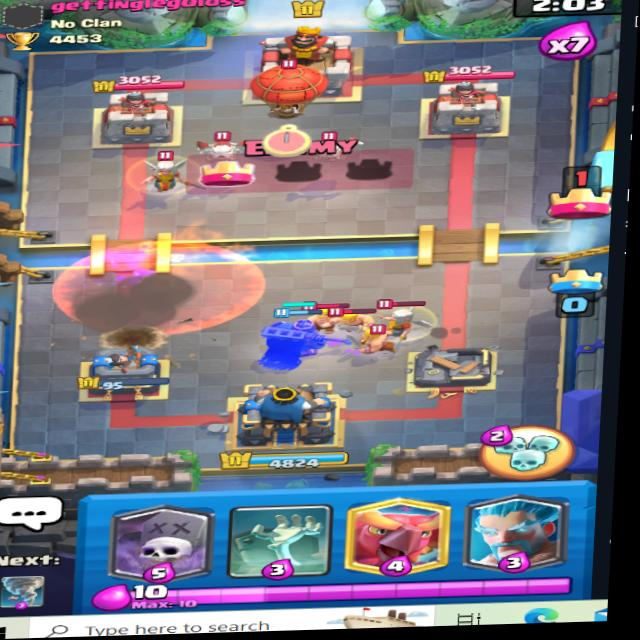balloon: (249, 57, 329, 120)
barbarian: (323, 302, 375, 338), (353, 323, 401, 355), (300, 300, 346, 333)
battle-healer: (360, 292, 443, 343), (129, 151, 208, 195)
skeleton-dragon: (292, 123, 359, 169), (195, 124, 259, 168)
